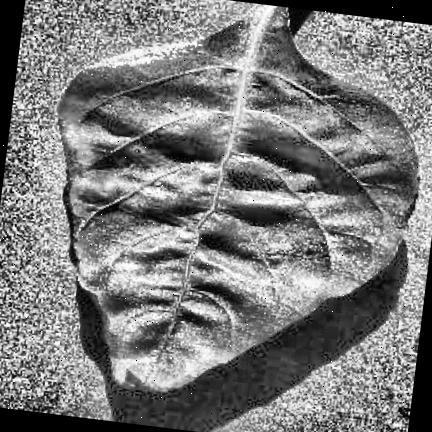leaf: (59, 4, 419, 390)
